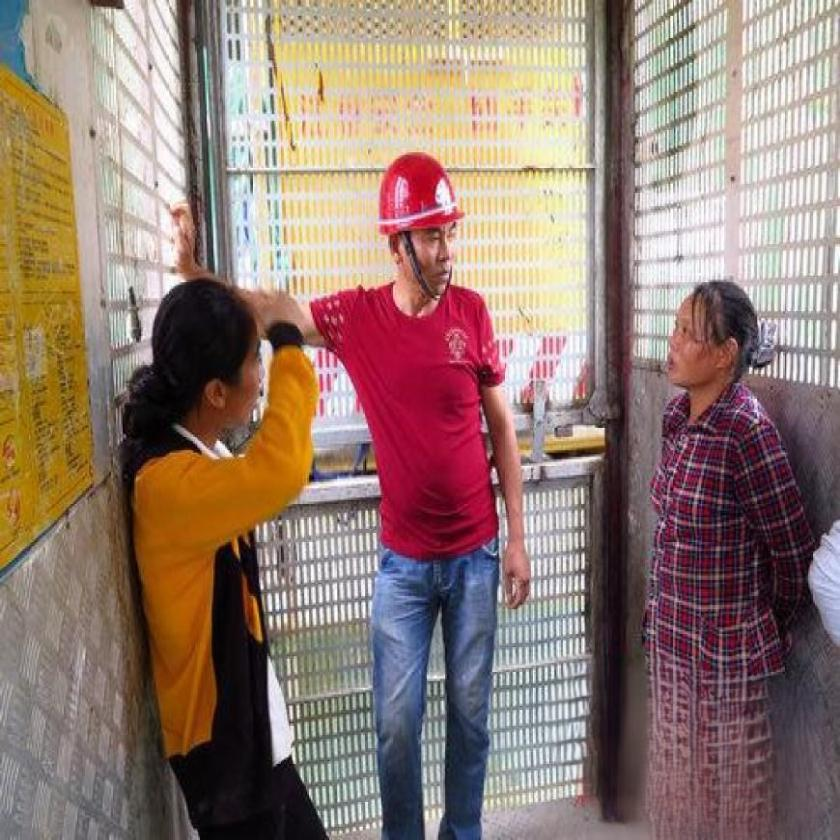Con_casco: (379, 149, 467, 299)
Sin_casco: (134, 282, 280, 457), (664, 268, 767, 398)
